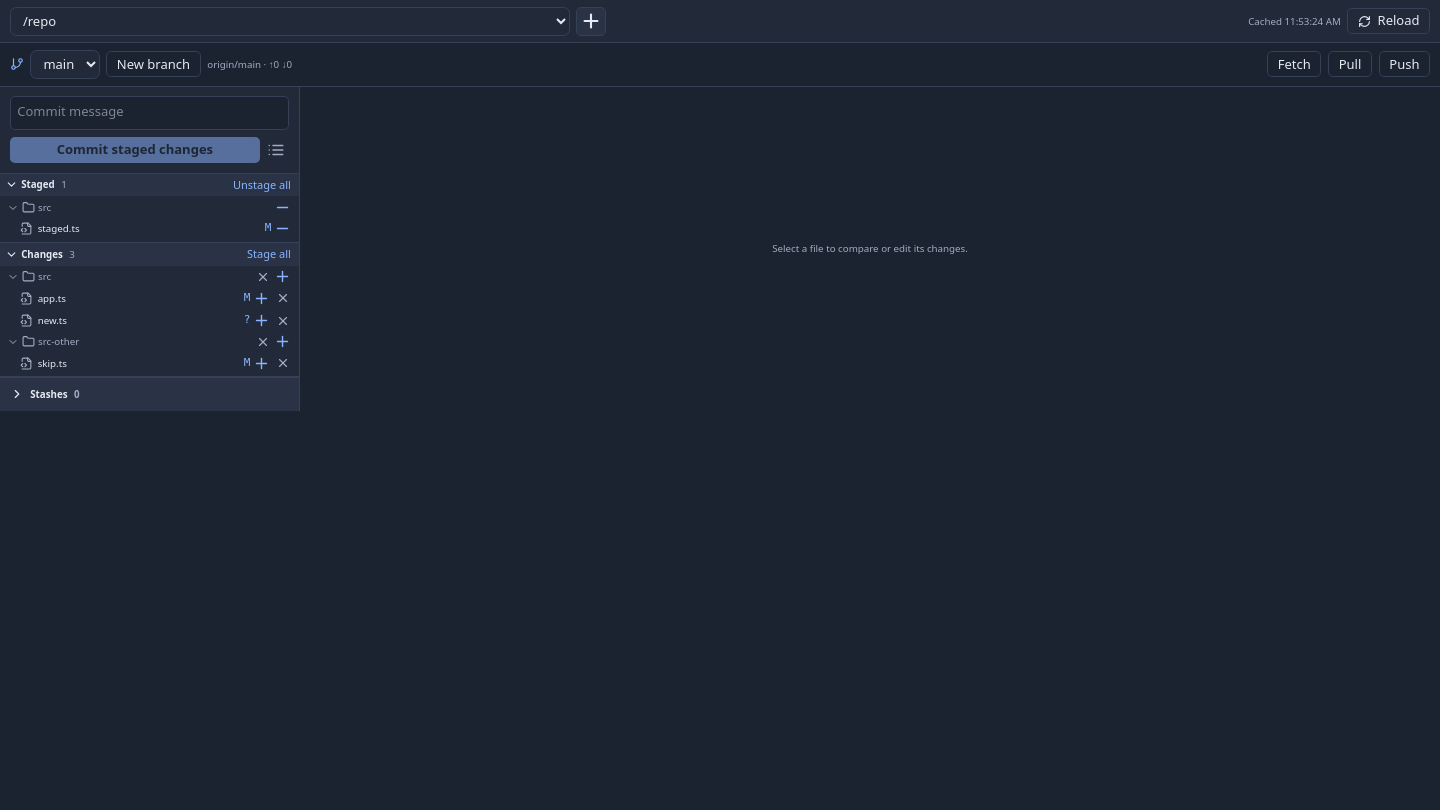
Scenario: folder discard lists the files, sends nothing on cancel and exactly the listed files on accept
Later steps or results of the test are not shown.
Click the button named "Discard folder src" at (263, 277), box [254,267,273,287]
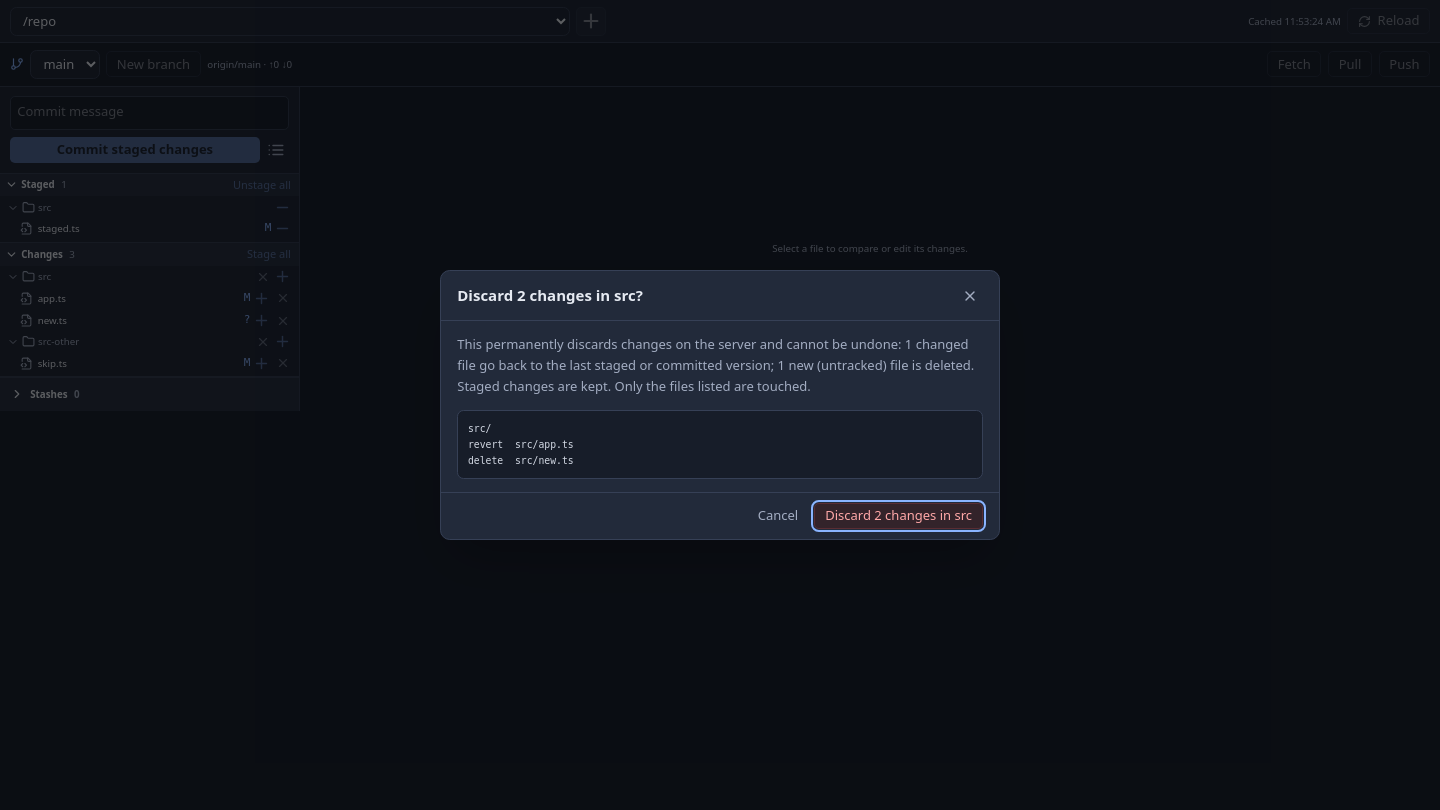
Expected: the text "revert src/app.ts" is shown, [468,423,574,466]
Expected: the text "delete src/new.ts" is shown, [468,423,574,466]
Expected: the text "Staged changes are kept" is shown, [457,335,974,395]
